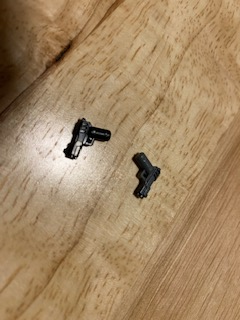pistol: (64, 117, 113, 162), (125, 149, 163, 202)
